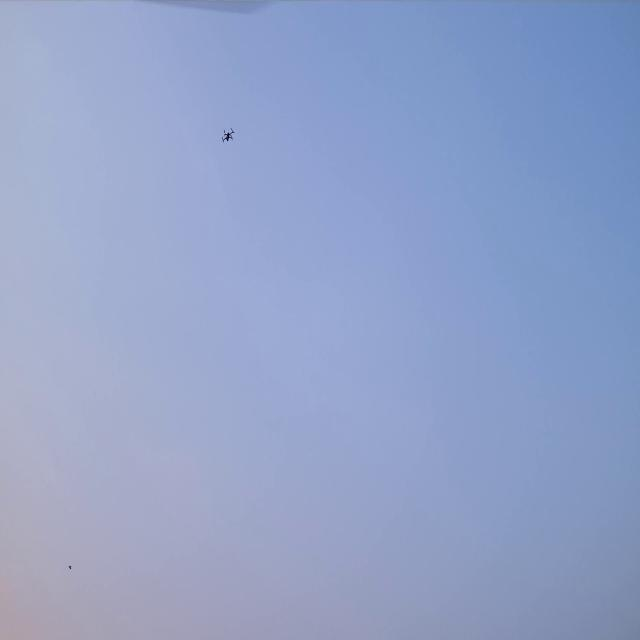UAV: (218, 124, 234, 144)
